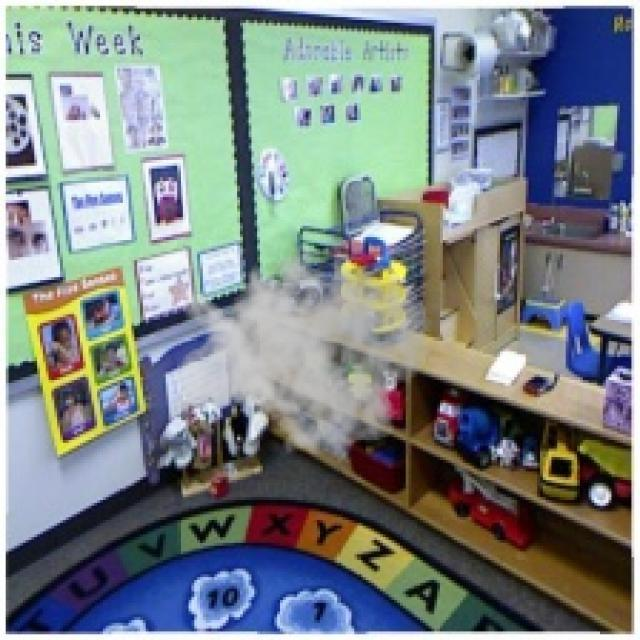Smoke: (172, 228, 432, 468)
